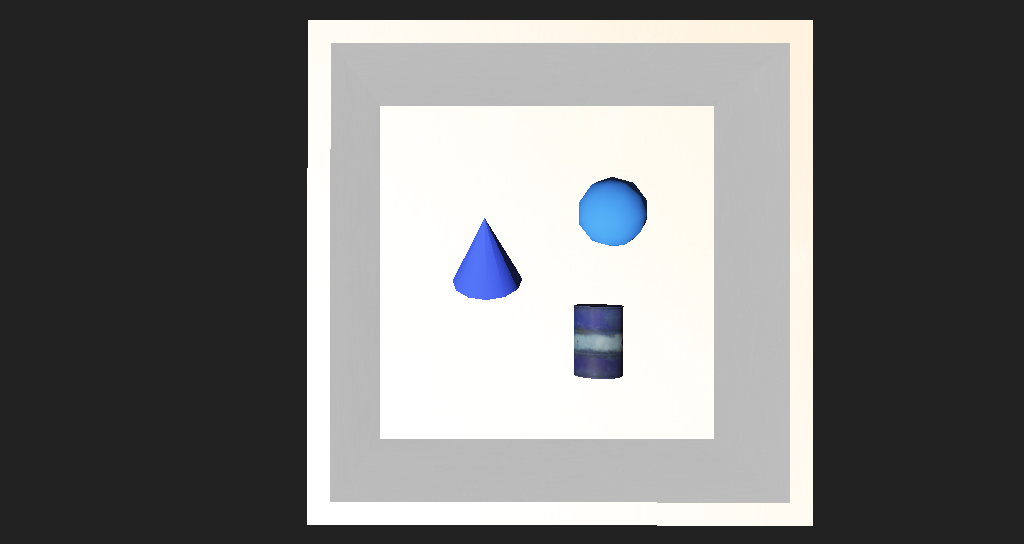cone: (529, 286, 576, 334)
cylinder: (411, 220, 478, 286)
sphere: (536, 205, 596, 253)
